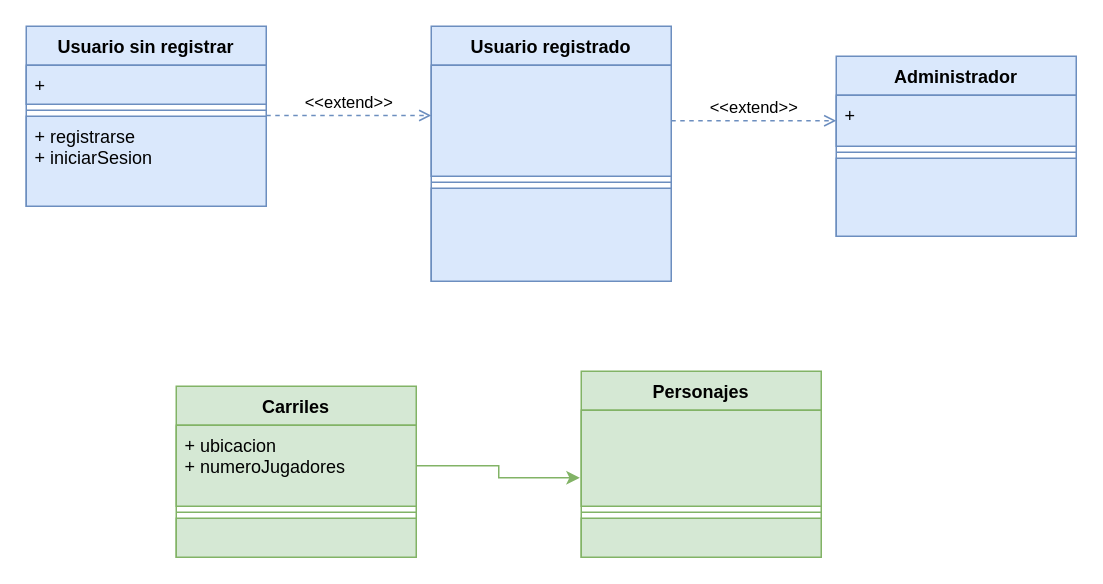
Image size: 1103x584. Some labels were removed from this diagram. Here are the shapes that lost their labels. From the top down, the centre of each, then its label:
At point 550,120: "- nombre - usuario - correo - contraseña".
At point 955,196: "+ modificarInfo + eliminarCuentas".
At point 550,234: "+ mandarSugerencia + ponerFavoritos".
At point 700,457: "+ nombre + habilidades + carriles + tipoDeDanio".
